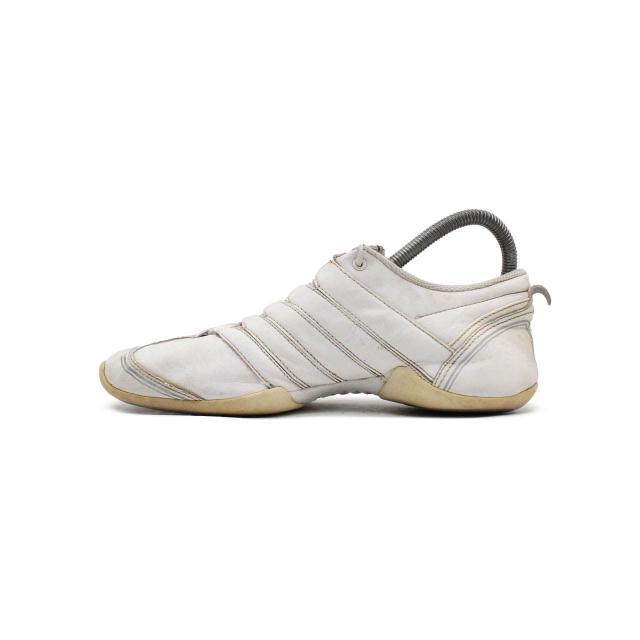heel: (477, 271, 551, 358)
midsole: (101, 357, 535, 414)
uppersole: (104, 244, 477, 401)
